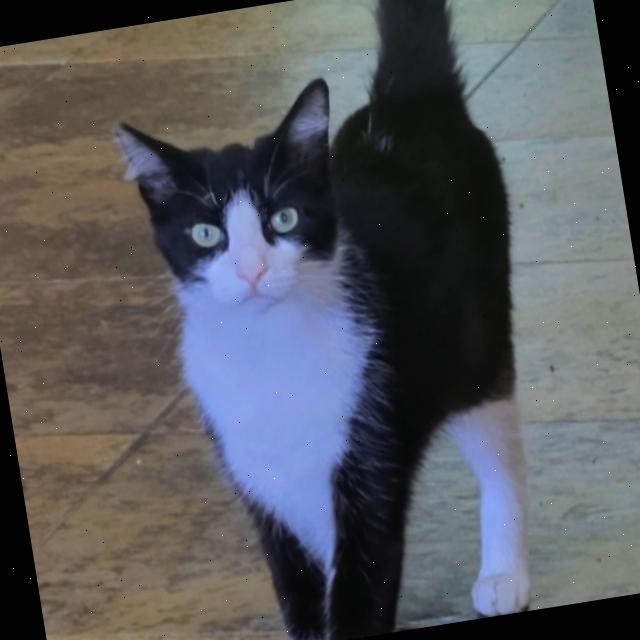american_shorthair_cat: (96, 70, 374, 348)
